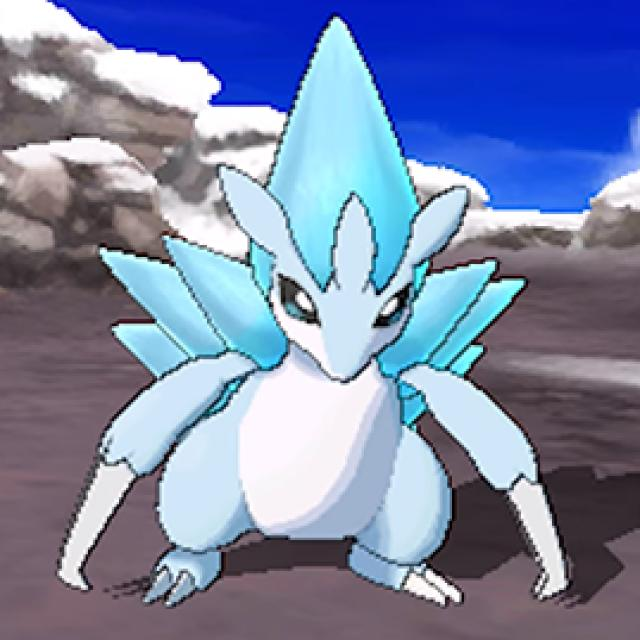Alolan: (96, 14, 530, 607)
